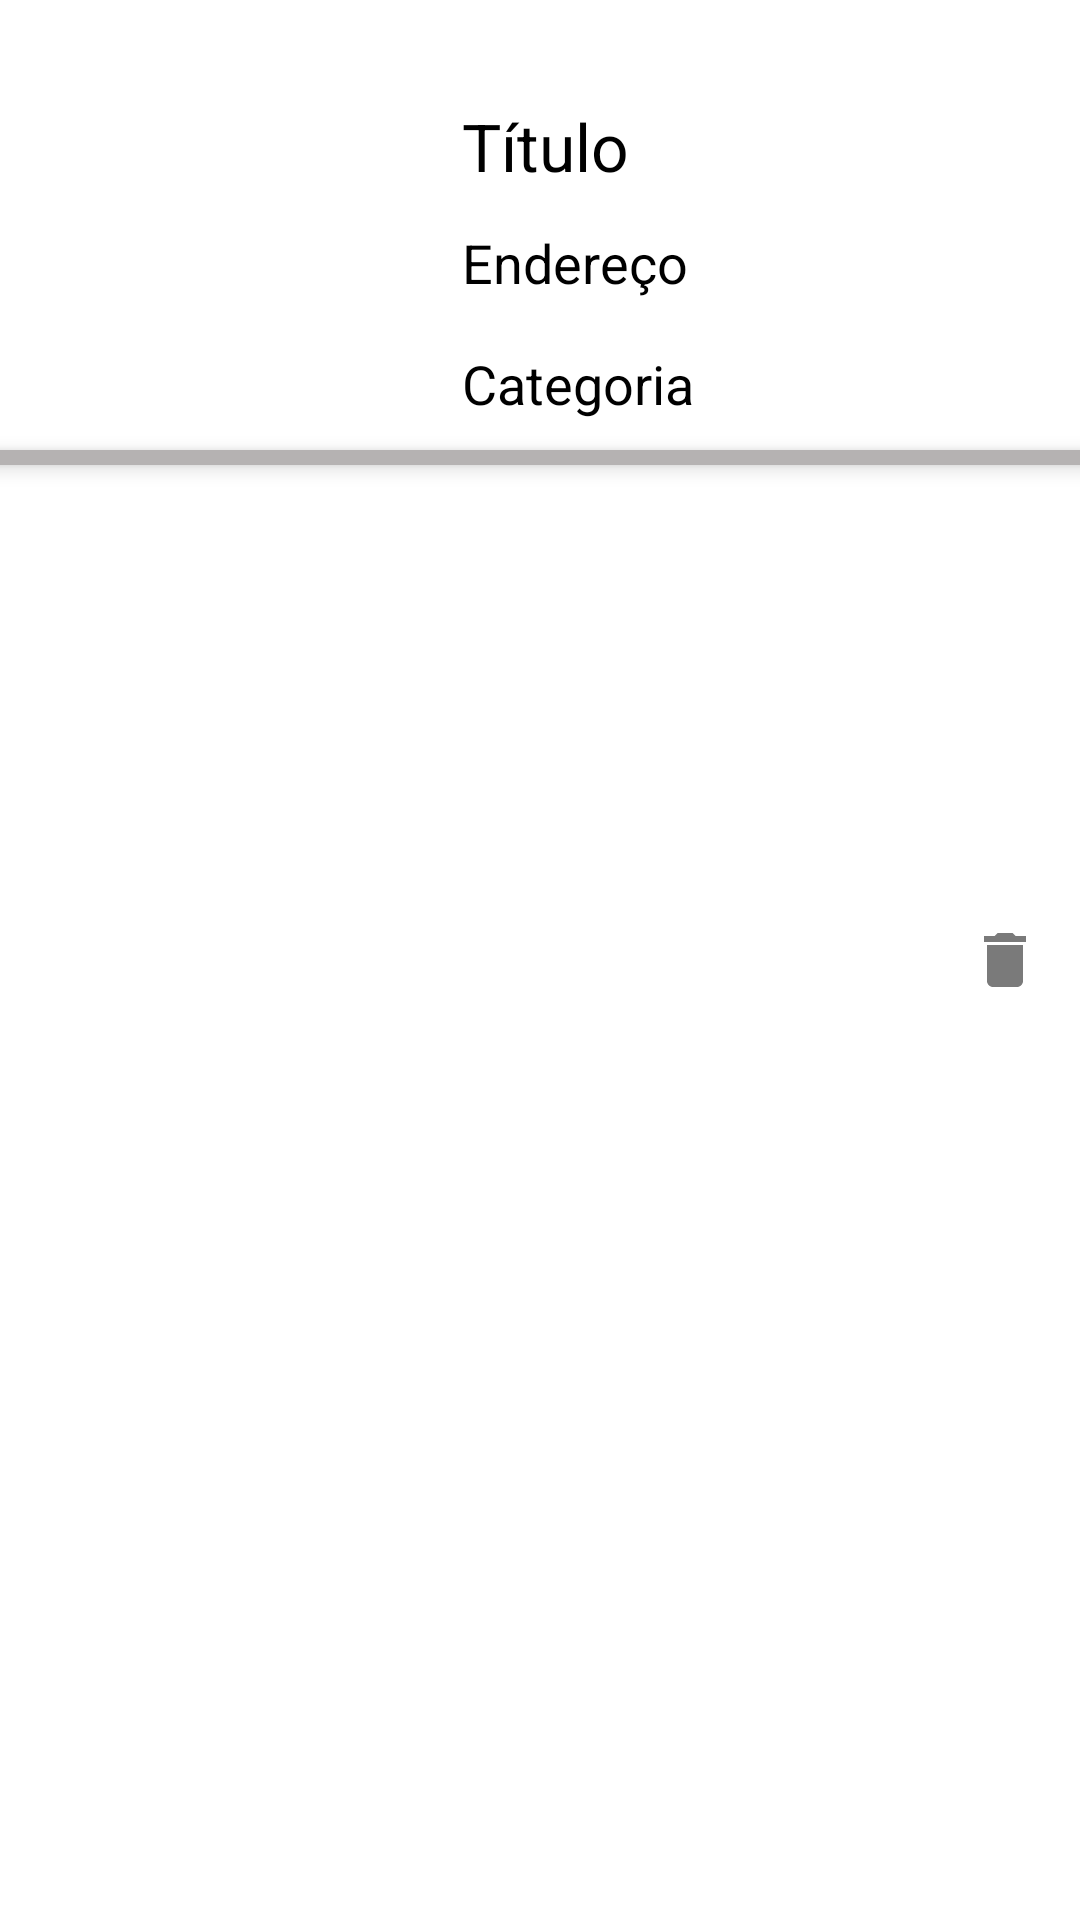

Icon click points for this 1080*1920 phone screenshot, format [x,y]:
delete: [1005,960]
